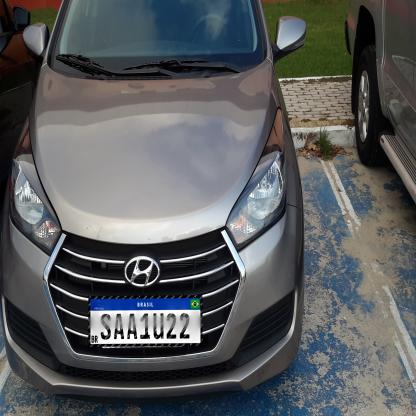PlacaM: (88, 295, 202, 347)
